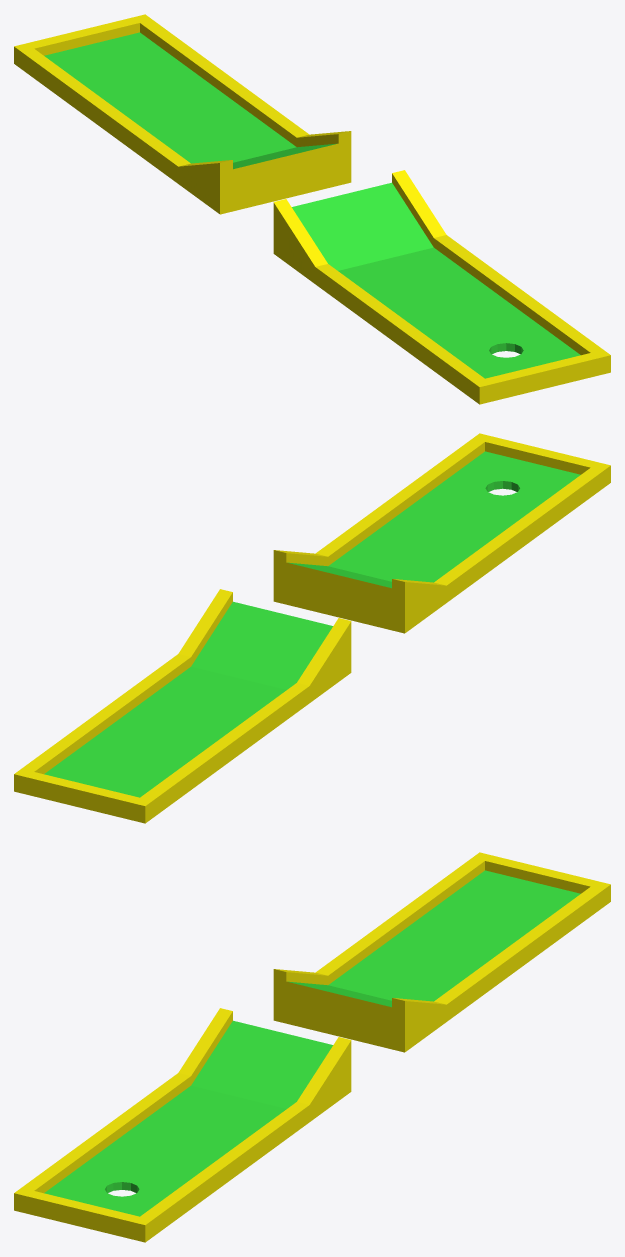
Rendered from Bahn1 1.fbx.
The picture shows the model from 3 angles, top to bottom: view 1: azimuth 30°, elevation 25°; view 2: azimuth 150°, elevation 25°; view 3: azimuth 330°, elevation 25°; orthographic projection.
Visible parts, largest first — view 1: BahnF4; view 2: BahnF4; view 3: BahnF4.
Part boxes in pixels (x1,y1,x2,y2): BahnF4: (14, 14, 610, 404); BahnF4: (14, 433, 610, 823); BahnF4: (14, 852, 610, 1242).
Bounding box in the file's own units: 87 × 32.71 × 534.
